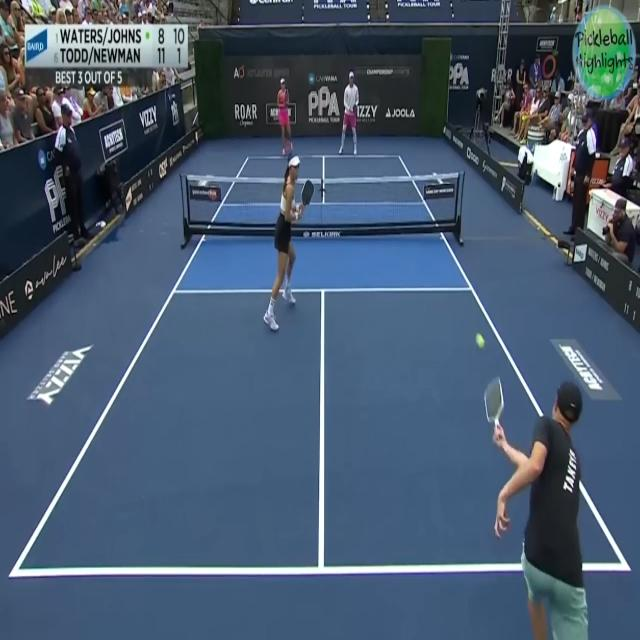Pickleball: (474, 332, 486, 350)
